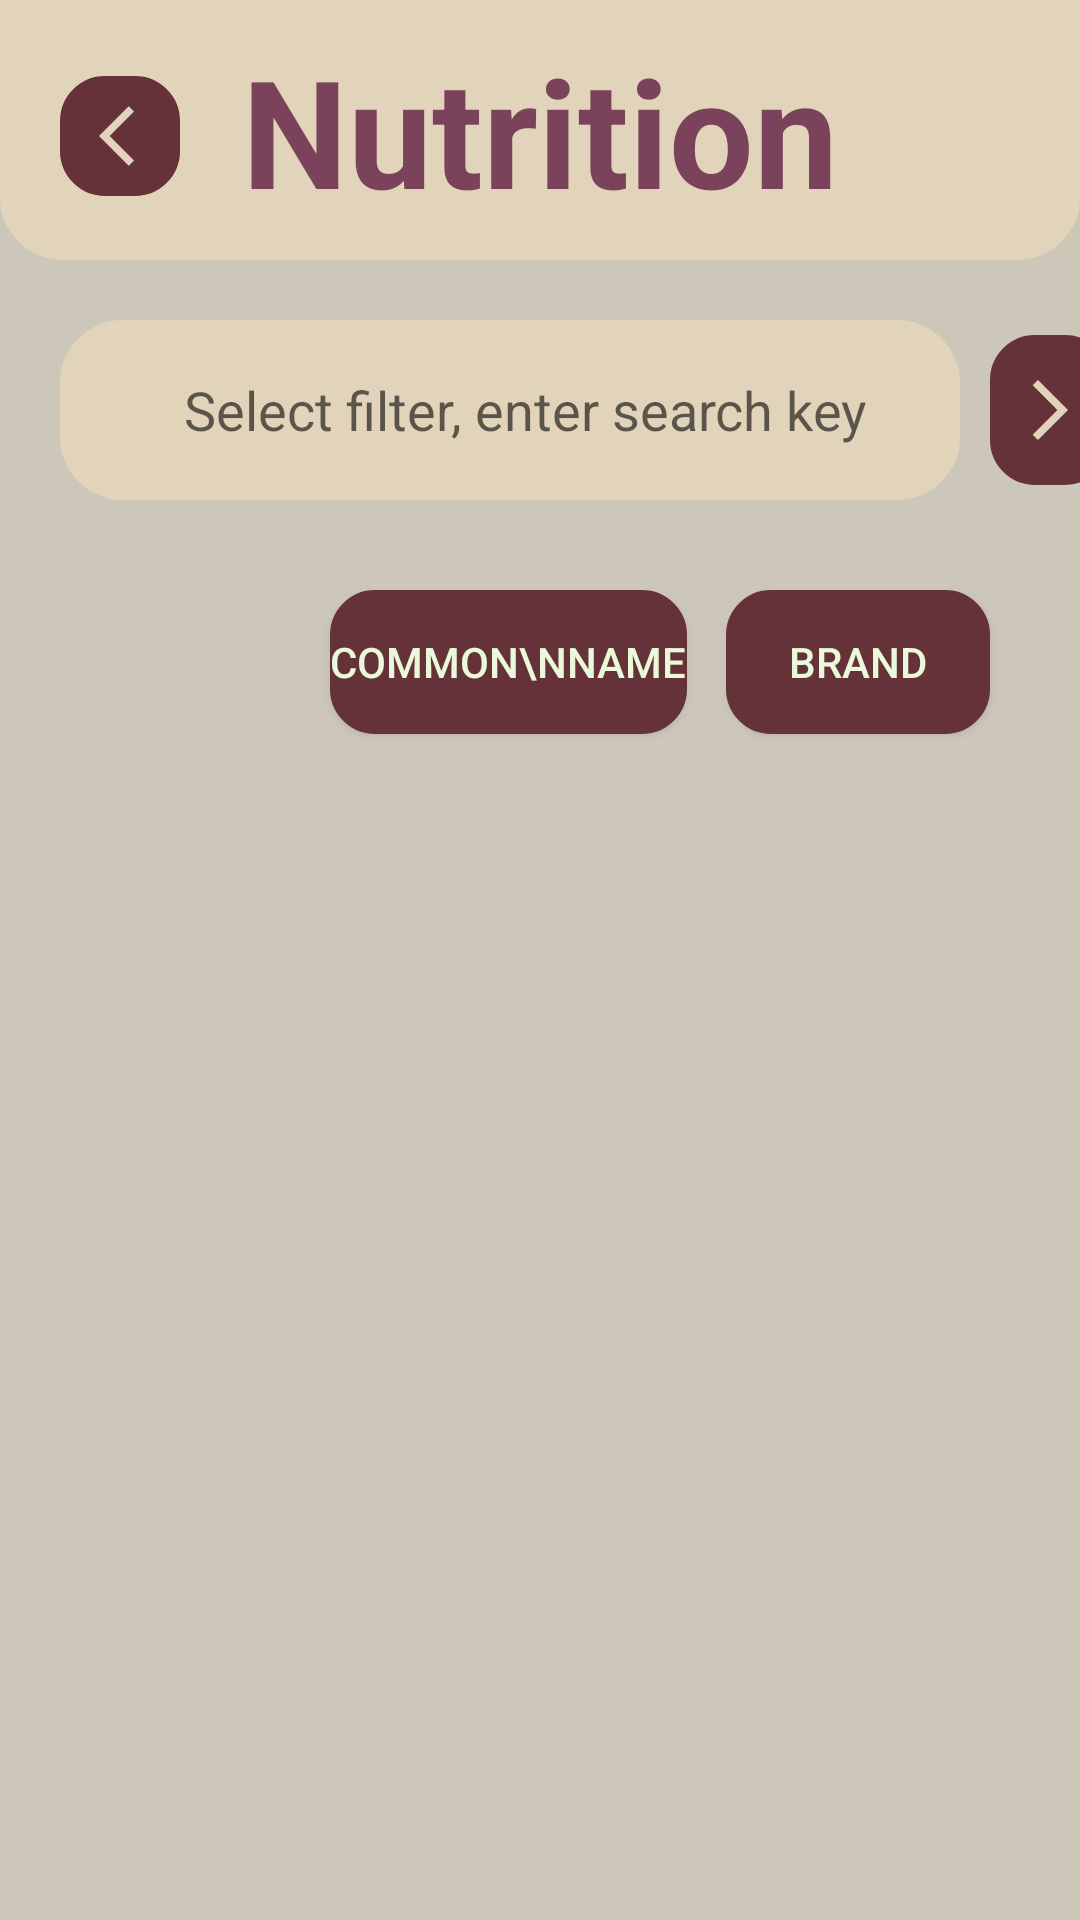

Named icons in this screenshot (1080w x 1920h) and their centers, (x,y):
back: (120,136)
